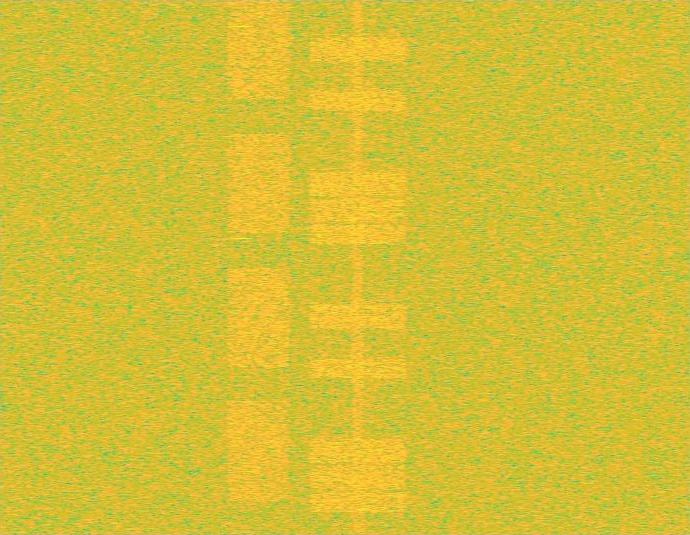5G: (224, 0, 293, 534)
DSSS: (351, 0, 365, 534)
LTE: (306, 0, 410, 534)
Radar: (235, 0, 249, 534)
